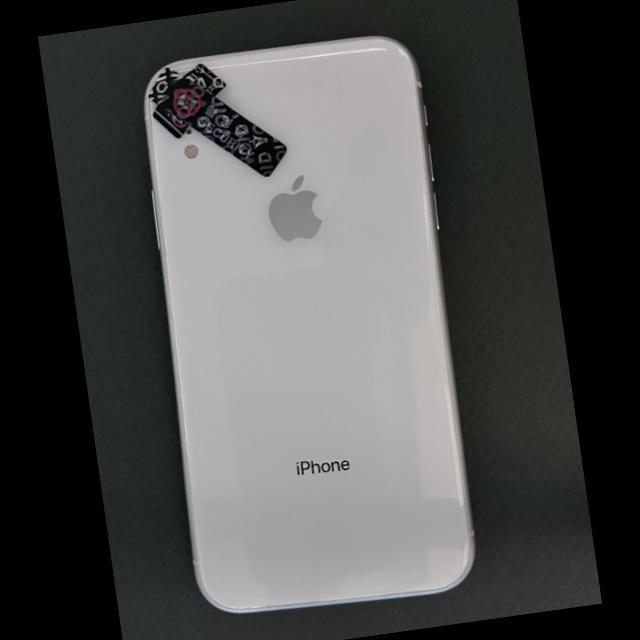phone: (144, 36, 475, 613)
sticker: (148, 67, 287, 177), (185, 64, 226, 96)
